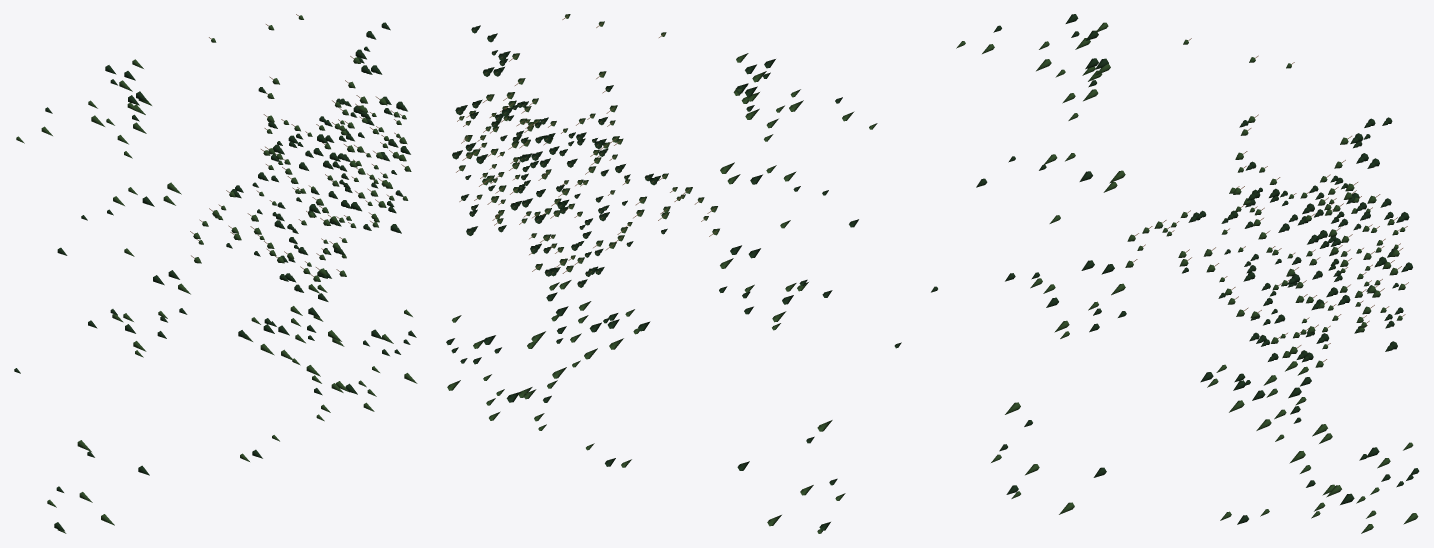
File: forest_0.obj
3 renders of one model, left to right at view 1: azimuth 30°, elevation 25°; view 2: azimuth 150°, elevation 25°; view 3: azimuth 330°, elevation 25°, orthographic. The views are drawn at different scales.
Size of the model in its own units: 486 by 504 by 71.33.
